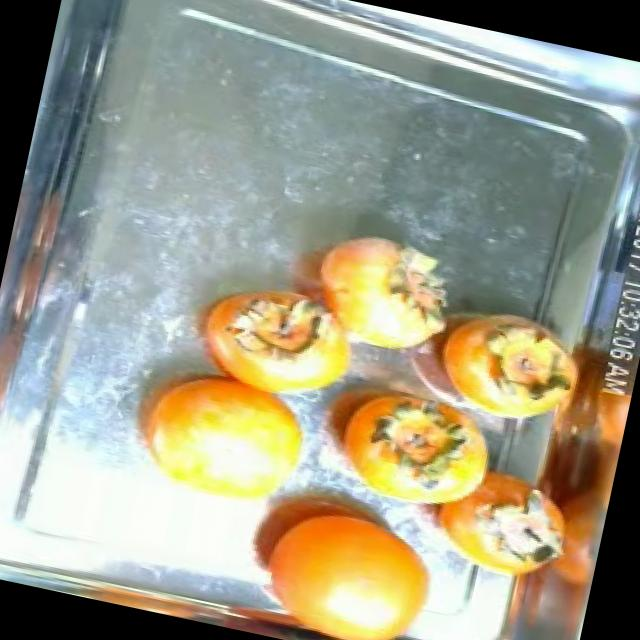Fruit: (104, 340, 342, 536)
